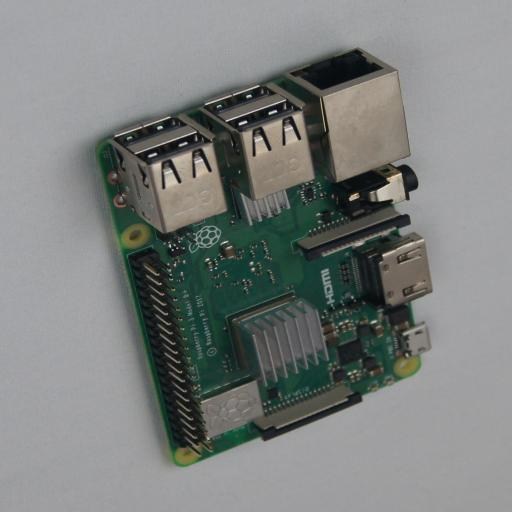Raspberry Pi 3 B-: (87, 48, 432, 466)
